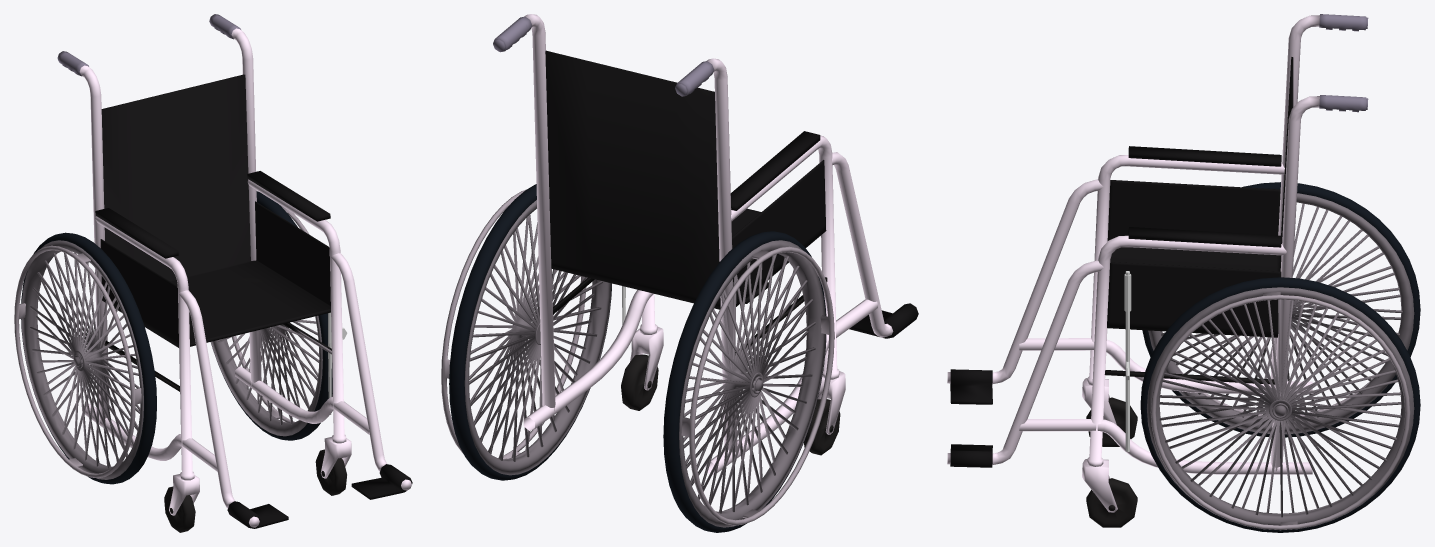
File: wheelchair.glb
The picture shows the model from 3 angles, left to right: view 1: azimuth 30°, elevation 25°; view 2: azimuth 150°, elevation 25°; view 3: azimuth 270°, elevation 25°; orthographic projection. The views are drawn at different scales.
Parts seen in each view (by area): view 1: Cylinder; view 2: Cylinder; view 3: Cylinder, Cylinder.001.
Part boxes in pixels (box(x1,y1,x2,y2)): Cylinder: box(14, 14, 412, 532); Cylinder: box(441, 14, 918, 532); Cylinder: box(947, 14, 1420, 532); Cylinder.001: box(1124, 271, 1131, 451).
Size of the model in its own units: 0.5961 by 1.07 by 1.06.
2 materials, 1 textured.
